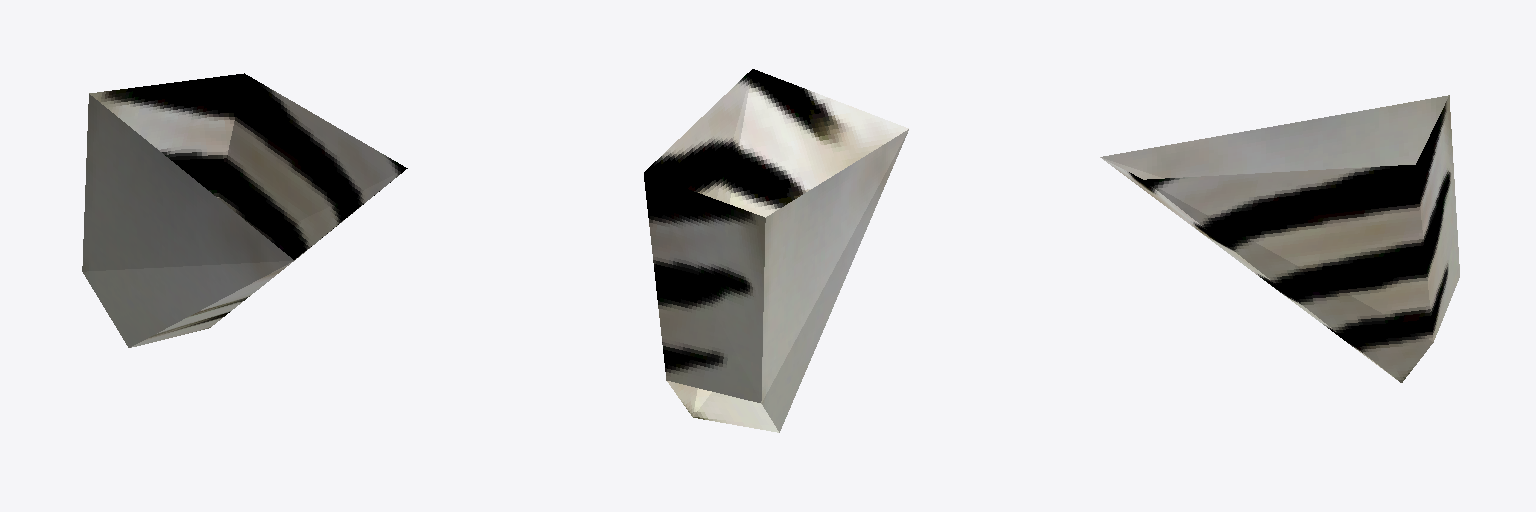
3 views of the same model, side by side, from view 1: azimuth 30°, elevation 25°; view 2: azimuth 150°, elevation 25°; view 3: azimuth 270°, elevation 25° (orthographic).
Parts seen in each view (by area): view 1: ZBLU; view 2: ZBLU; view 3: ZBLU.
Boxes of the visible parts, x1,y1,x2,y2 form: ZBLU: [82, 73, 407, 347]; ZBLU: [644, 69, 908, 432]; ZBLU: [1100, 95, 1459, 382].
Size of the model in its own units: 0.2474 by 0.341 by 0.4621.
1 materials, 1 textured.